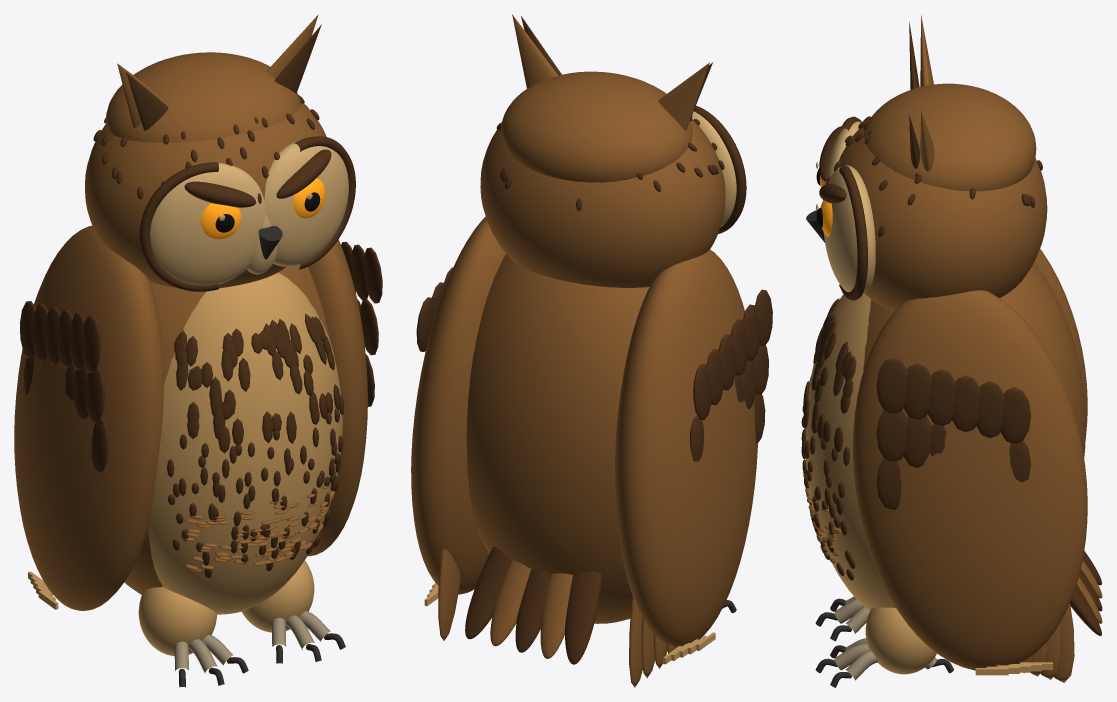
The model's file is burung_hantu.glb.
The picture shows the model from 3 angles, left to right: view 1: azimuth 30°, elevation 25°; view 2: azimuth 150°, elevation 25°; view 3: azimuth 270°, elevation 25°; orthographic projection.
Visible parts, largest first — view 1: wing_L, breast, breast_streaks, head, crown_mottle, wing_R, facial_disc_L, wing_coverts_L, facial_disc_R, body, leg_feathers_L, belly_barring (+14 smaller); view 2: body, wing_L, head, wing_R, crown_mottle, wing_coverts_L, tail_feather_1, tail_feather_5, wing_primaries_L, tail_feather_2, tail_feather_4, tail_feather_3 (+8 smaller); view 3: wing_R, head, crown_mottle, wing_coverts_R, breast, body, breast_streaks, facial_disc_R, leg_feathers_R, wing_primaries_R, facial_rim_R, wing_L (+9 smaller).
Boxes of the visible parts, left/top/right/bottom form: wing_L: left=14, top=225, right=164, bottom=610; breast: left=148, top=272, right=342, bottom=614; breast_streaks: left=167, top=313, right=344, bottom=578; head: left=85, top=103, right=326, bottom=288; crown_mottle: left=106, top=52, right=300, bottom=142; wing_R: left=307, top=239, right=367, bottom=556; facial_disc_L: left=150, top=163, right=265, bottom=285; wing_coverts_L: left=20, top=301, right=108, bottom=472; facial_disc_R: left=264, top=139, right=348, bottom=266; body: left=124, top=265, right=330, bottom=594; leg_feathers_L: left=138, top=587, right=216, bottom=656; belly_barring: left=180, top=482, right=334, bottom=571; body: left=466, top=254, right=649, bottom=623; wing_L: left=615, top=249, right=757, bottom=647; head: left=480, top=119, right=725, bottom=287; wing_R: left=411, top=216, right=505, bottom=594; crown_mottle: left=501, top=71, right=692, bottom=182; wing_coverts_L: left=690, top=289, right=772, bottom=461; tail_feather_1: left=565, top=571, right=602, bottom=664; tail_feather_5: left=465, top=547, right=512, bottom=639; wing_primaries_L: left=629, top=595, right=698, bottom=687; tail_feather_2: left=540, top=573, right=572, bottom=658; tail_feather_4: left=490, top=560, right=531, bottom=646; tail_feather_3: left=515, top=569, right=551, bottom=652; wing_R: left=852, top=290, right=1087, bottom=670; head: left=839, top=119, right=1047, bottom=310; crown_mottle: left=864, top=83, right=1036, bottom=191; wing_coverts_R: left=876, top=357, right=1030, bottom=510; breast: left=805, top=293, right=895, bottom=610; body: left=863, top=262, right=1085, bottom=458; breast_streaks: left=801, top=298, right=856, bottom=580; facial_disc_R: left=823, top=165, right=875, bottom=294; leg_feathers_R: left=865, top=607, right=936, bottom=674; wing_primaries_R: left=995, top=603, right=1074, bottom=682; facial_rim_R: left=839, top=165, right=867, bottom=300; wing_L: left=1034, top=249, right=1087, bottom=437.
Bounding box in the file's own units: 0.3026 × 0.5883 × 0.2733.
